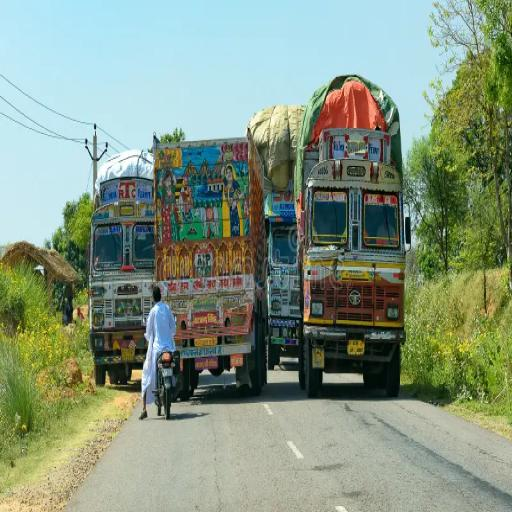person: (138, 286, 177, 418)
truck: (293, 74, 411, 398), (152, 132, 268, 400), (87, 147, 156, 386)
